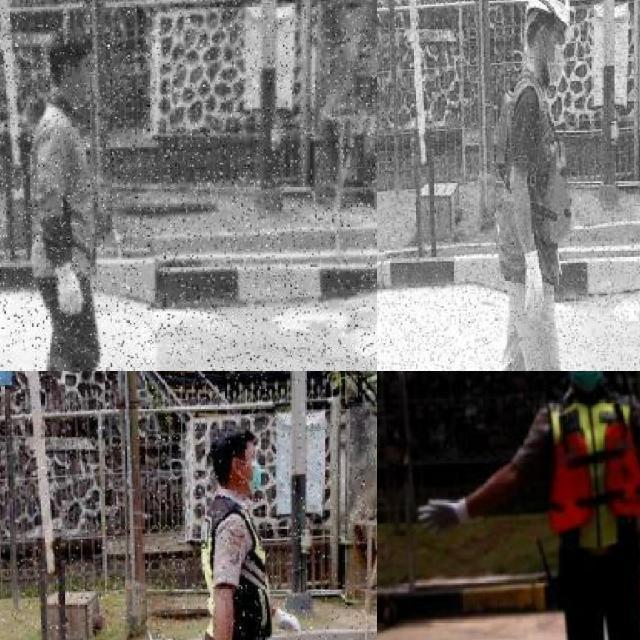apron: (416, 492, 470, 540), (518, 244, 550, 324), (52, 249, 86, 323), (270, 601, 302, 640)
